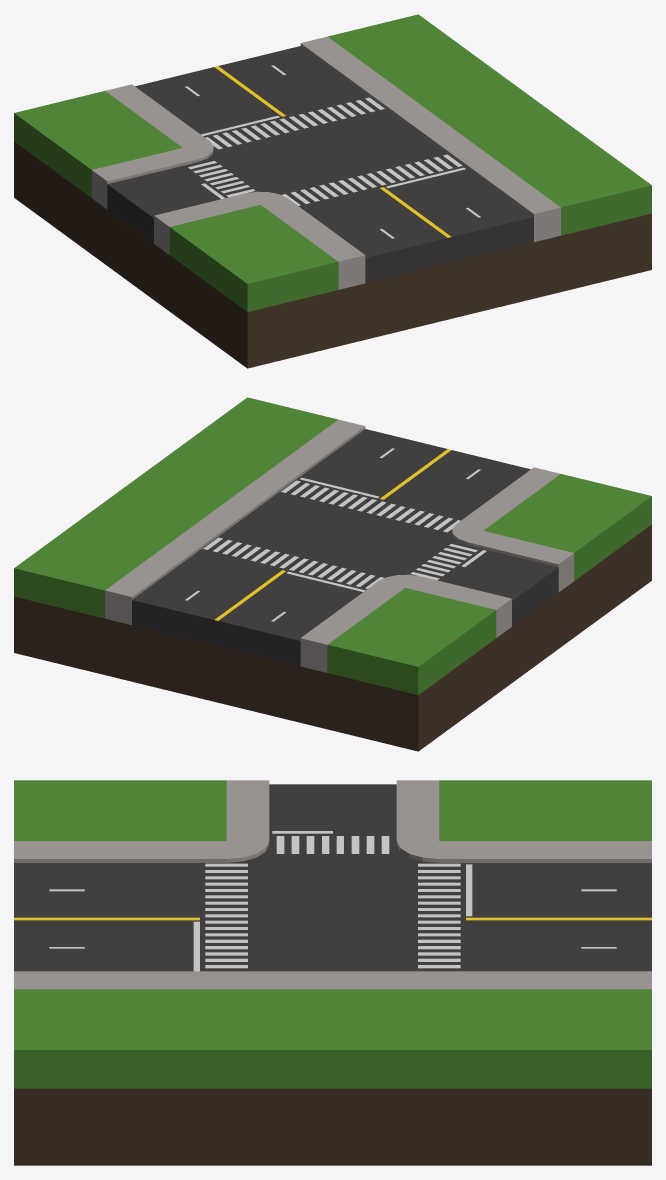
Rendered from tiles_tile-road-mainroad-intersection-t.fbx.
3 renders of one model, top to bottom at view 1: azimuth 30°, elevation 25°; view 2: azimuth 150°, elevation 25°; view 3: azimuth 270°, elevation 25°, orthographic. The views are drawn at different scales.
Parts seen in each view (by area): view 1: tiles_tile_road_mainroad_intersection_t; view 2: tiles_tile_road_mainroad_intersection_t; view 3: tiles_tile_road_mainroad_intersection_t.
Part boxes in pixels (x1=…): tiles_tile_road_mainroad_intersection_t: x1=14, y1=14, x2=651, y2=368; tiles_tile_road_mainroad_intersection_t: x1=14, y1=397, x2=651, y2=751; tiles_tile_road_mainroad_intersection_t: x1=14, y1=780, x2=651, y2=1165.
Bounding box in the file's own units: 200 × 40 × 200.
